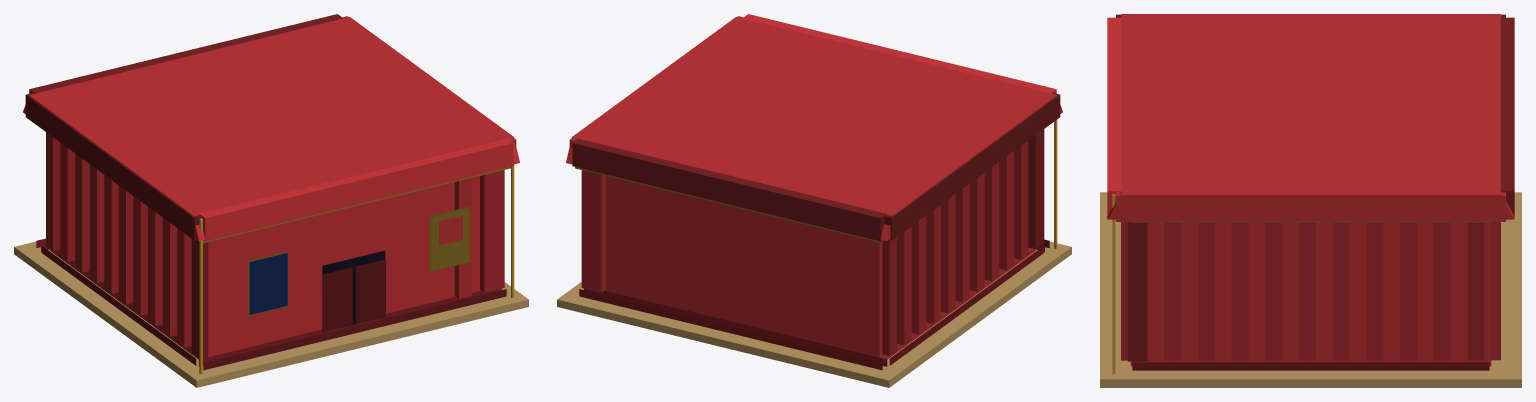
The model's file is CactusAcrobatsSil.fbx.
3 views of the same model, side by side, from view 1: azimuth 30°, elevation 25°; view 2: azimuth 150°, elevation 25°; view 3: azimuth 270°, elevation 25° (orthographic). The views are drawn at different scales.
Parts seen in each view (by area): view 1: CI_S_All; view 2: CI_S_All; view 3: CI_S_All.
Boxes of the visible parts, x1,y1,x2,y2 form: CI_S_All: (14,14,528,387); CI_S_All: (557,14,1071,387); CI_S_All: (1100,14,1521,387).
Size of the model in its own units: 42.04 by 19.9 by 40.04.
